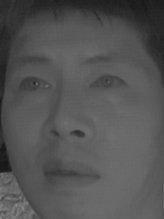eye: (86, 69, 128, 96), (15, 72, 53, 97)
mouth: (41, 155, 102, 193)
